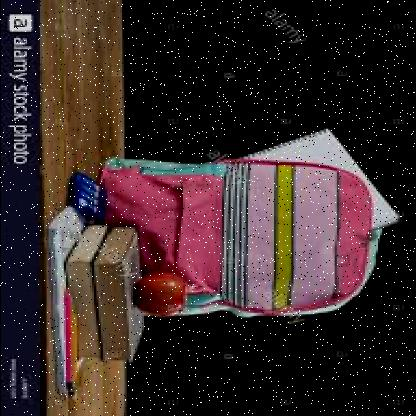apple: (132, 266, 188, 320)
